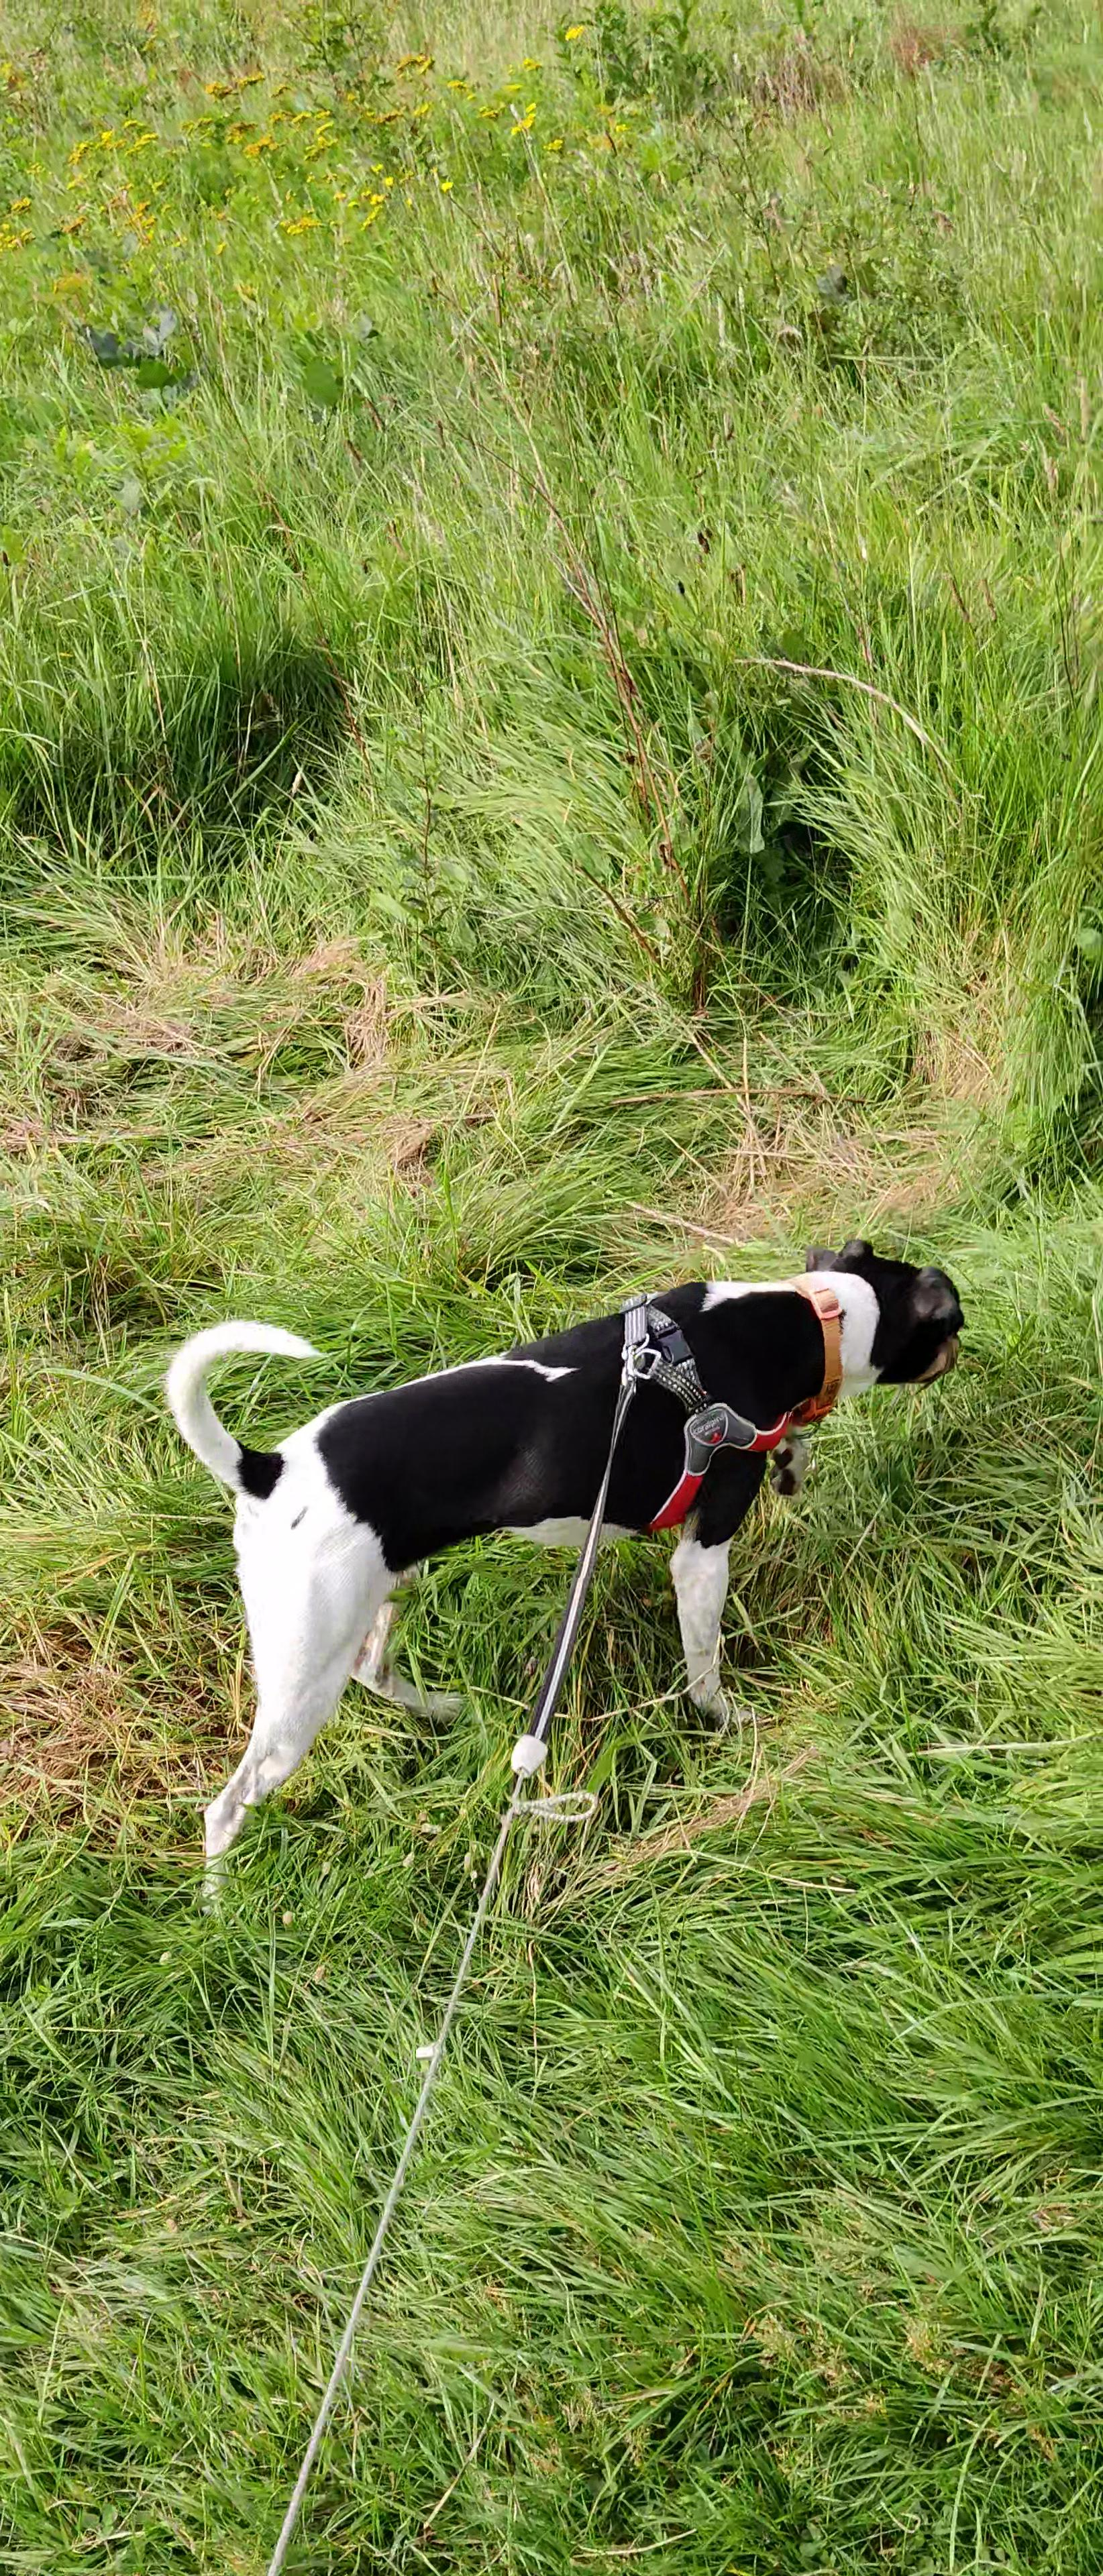Dog: (159, 1237, 967, 1917)
